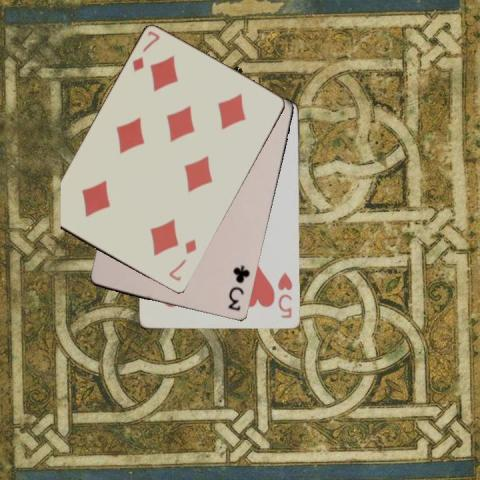3c: (225, 262, 252, 313)
5h: (275, 269, 294, 320)
7d: (166, 236, 199, 283), (130, 28, 162, 73)
